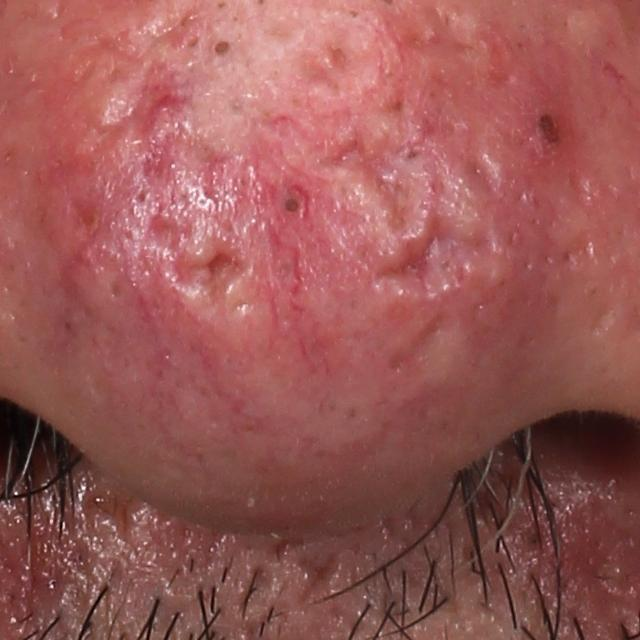atrophic_scar: (61, 63, 195, 174), (376, 173, 486, 292), (326, 127, 416, 236), (146, 214, 250, 308), (423, 97, 505, 195), (380, 308, 461, 383), (169, 138, 244, 214), (377, 90, 439, 172), (76, 485, 131, 543), (298, 552, 339, 603)
comedo: (275, 184, 312, 220), (207, 35, 235, 64)
papule: (502, 85, 576, 163)
